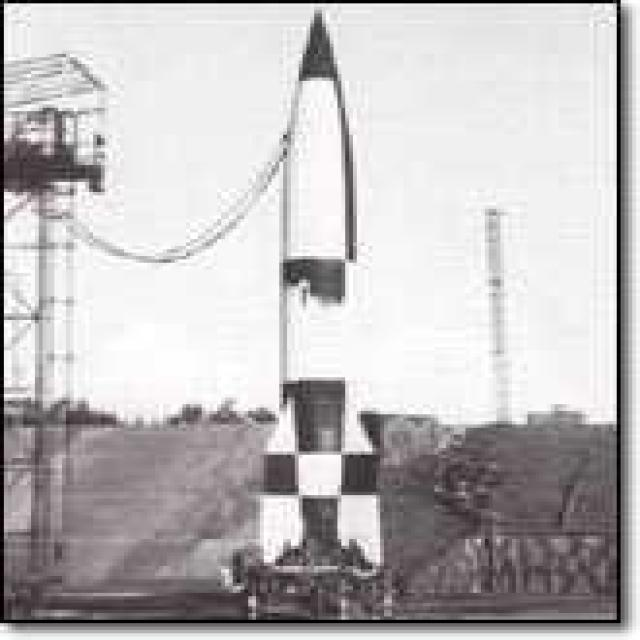missile: (242, 11, 407, 585)
